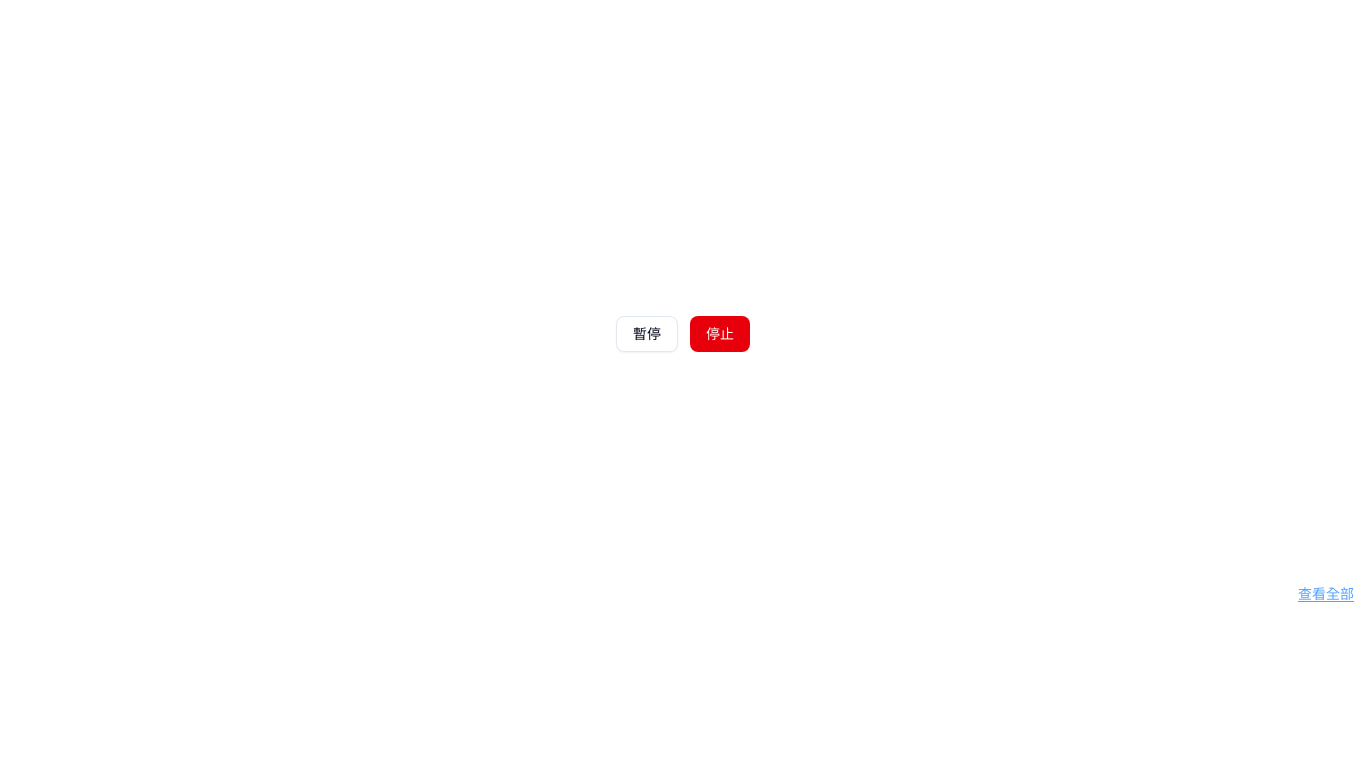
Test: App › TaskDialog 整合 › 點擊停止按鈕時應顯示 TaskDialog
The width and height of the screenshot is (1366, 768).
Click the button "停止" at (720, 334), box [690, 316, 750, 352]
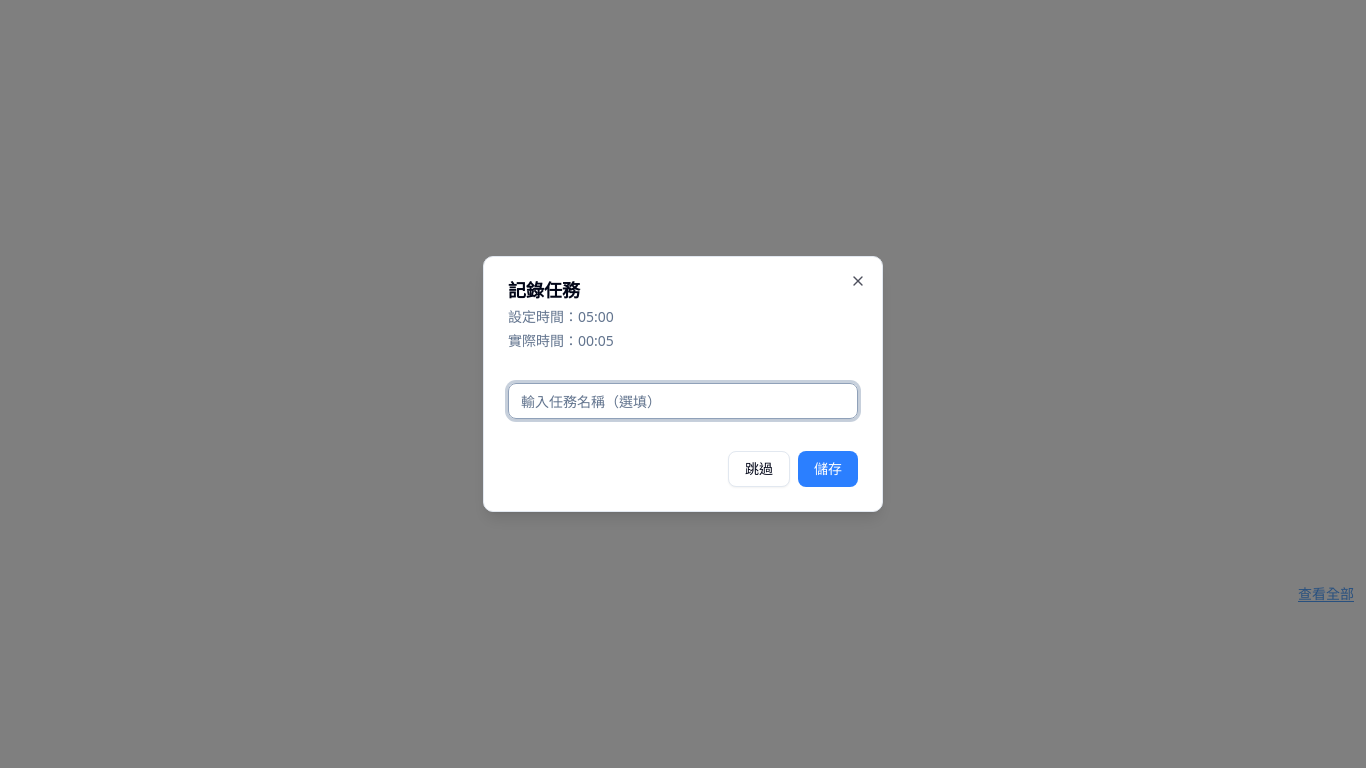
Expected: the dialog is shown, [483, 256, 883, 512]
Expected: the heading "記錄任務" is shown, [508, 278, 580, 302]
